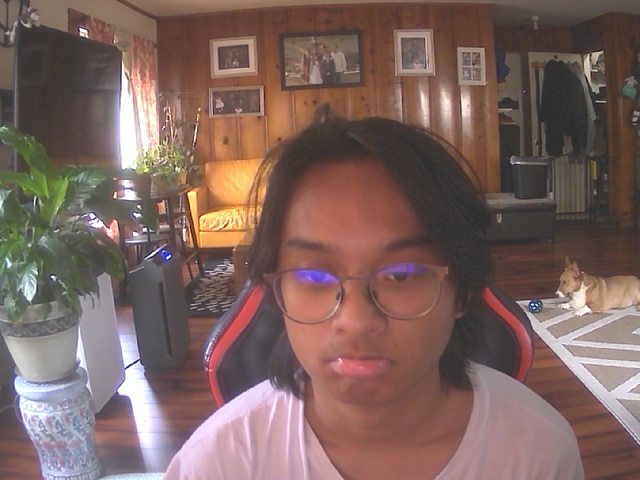sad: (257, 129, 476, 407)
